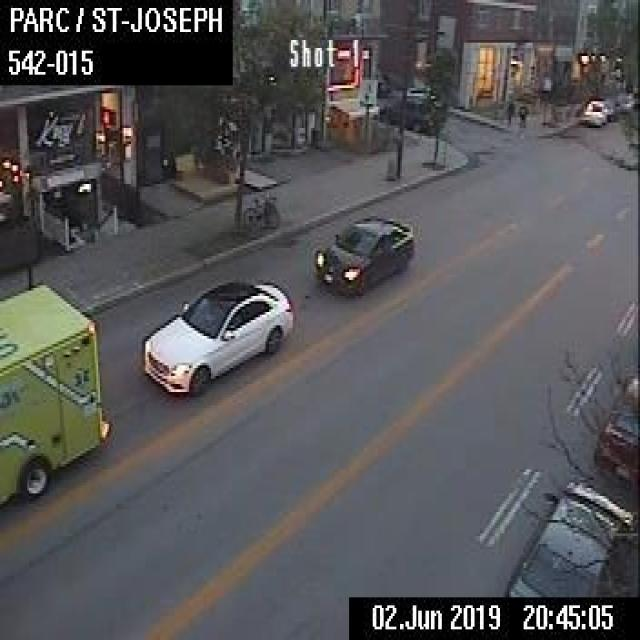pedestrian: (515, 100, 527, 128)
vehicle: (0, 277, 111, 507), (140, 272, 291, 397), (500, 474, 638, 594), (311, 211, 414, 293), (591, 360, 638, 485), (380, 84, 445, 133), (578, 97, 606, 125), (636, 523, 638, 525)
